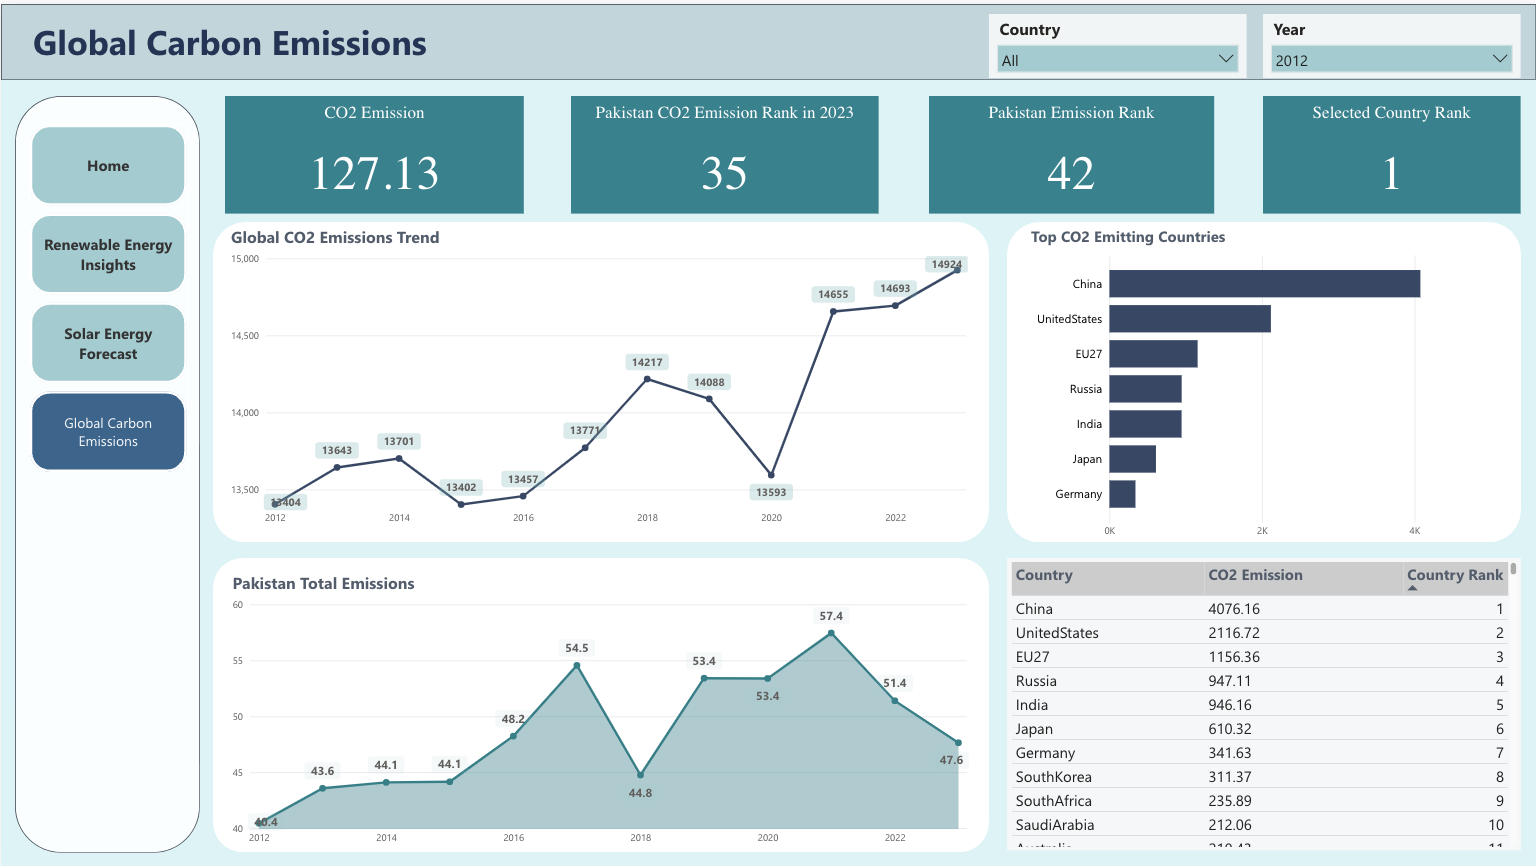

Layout of this report page (visuals, bound fields, positions):
{"tool":"powerbi","page":{"name":"Global Carbon Emissions","canvas":[1920,1080],"ordinal":3},"visuals":[{"type":"shape","box":[17.3,114.5,231.1,946.1],"z":0},{"type":"shape","box":[1257.3,272.1,642.5,400.6],"z":1000},{"type":"shape","box":[264.6,272.1,970.1,400.6],"z":2000},{"type":"shape","box":[264.6,692.9,970.1,367.9],"z":3000},{"type":"areaChart","title":"Pakistan Total Emissions ","fields":{"Category":["CO2 by sector country.Year"],"Y":["_Measures.TotalCO2EmissionsByYear"]},"box":[282.2,710.5,932.3,350.2],"z":4000},{"type":"tableEx","fields":{"Values":["CO2 by sector country.Country","CO2 by sector country.CO2 Emission","_Measures.Pakistan Rank"]},"box":[1257.3,692.9,642.5,365.4],"z":5000},{"type":"shape","box":[0,0,1919,95.2],"z":6000},{"type":"slicer","fields":{"Values":["CO2 by sector country.Year"]},"box":[1576.8,13,321.8,79.9],"z":7000},{"type":"slicer","fields":{"Values":["CO2 by sector country.Country"]},"box":[1235.5,13,321.8,79.9],"z":8000},{"type":"card","title":"Pakistan CO2 Emission Rank in 2023","fields":{"Values":["_Measures.Pakistan CO2 Emission Rank in 2023"]},"box":[712.8,114.5,384.5,146.9],"z":9000},{"type":"card","title":"CO2 Emission","fields":{"Values":["Avg(CO2 by sector country.CO2 Emission)"]},"box":[280.8,114.5,373.7,146.9],"z":10000},{"type":"card","title":"Pakistan Emission Rank","fields":{"Values":["_Measures.Pakistan Emission Rank"]},"box":[1159.9,114.5,356.4,146.9],"z":11000},{"type":"card","title":"Selected Country Rank","fields":{"Values":["_Measures.Country Rank"]},"box":[1576.8,114.5,321.8,146.9],"z":12000},{"type":"lineChart","title":"Global CO2 Emissions Trend","fields":{"Y":["_Measures.TotalGlobalCO2EmissionsByYear"],"Category":["CO2 by sector country.Year"]},"box":[283,278.6,931,382.3],"z":13000},{"type":"clusteredBarChart","title":"Top CO2 Emitting Countries","fields":{"Category":["CO2 by sector country.Country"],"Y":["_Measures.Total CO2 Emissions1"]},"box":[1283,276.5,591.8,399.6],"z":14000},{"type":"pageNavigator","box":[34.6,149,198.7,438.5],"z":15000},{"type":"textbox","box":[35.7,11.9,595.2,83.3],"z":16000}]}

Visuals, with their boxes on the page's 1920x1080 design canvas (x1, y1, x2, y2). These are canvas units, not pixel positions in the 1536x866 screenshot, which may show the page scaled, cropped or inside an application window:
shape: 17,114,248,1061
shape: 1257,272,1900,673
shape: 265,272,1235,673
shape: 265,693,1235,1061
"Pakistan Total Emissions " areaChart: 282,710,1214,1061
tableEx - CO2 by sector country.Country x CO2 by sector country.CO2 Emission: 1257,693,1900,1058
shape: 0,0,1919,95
slicer - CO2 by sector country.Year: 1577,13,1899,93
slicer - CO2 by sector country.Country: 1236,13,1557,93
"Pakistan CO2 Emission Rank in 2023" card: 713,114,1097,261
"CO2 Emission" card: 281,114,654,261
"Pakistan Emission Rank" card: 1160,114,1516,261
"Selected Country Rank" card: 1577,114,1899,261
"Global CO2 Emissions Trend" lineChart: 283,279,1214,661
"Top CO2 Emitting Countries" clusteredBarChart: 1283,276,1875,676
pageNavigator: 35,149,233,588
textbox: 36,12,631,95
